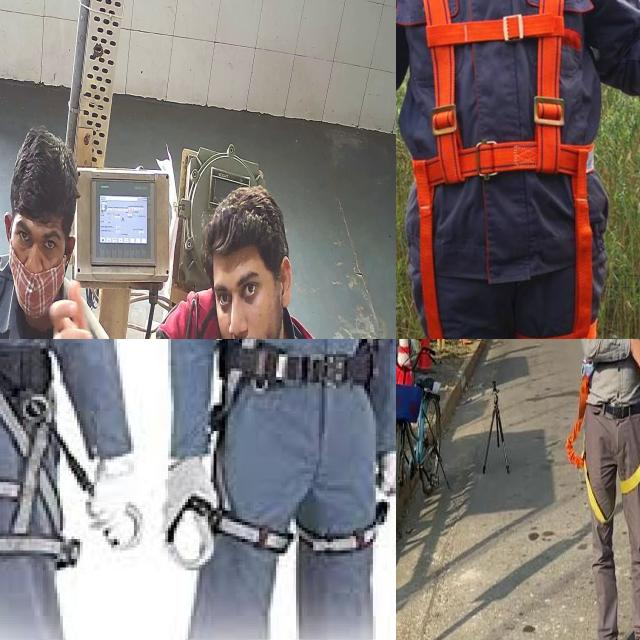Harness: (399, 0, 610, 339), (201, 339, 396, 570), (565, 363, 612, 524), (622, 464, 640, 494)
No_Ear-Protection: (275, 246, 298, 317), (1, 199, 17, 254)
No_Glasses: (8, 216, 68, 265), (211, 264, 265, 310)
